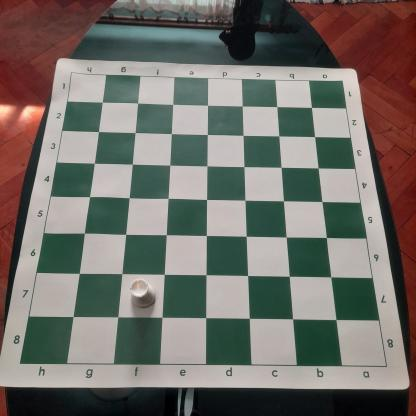white-rook: (128, 278, 158, 309)
